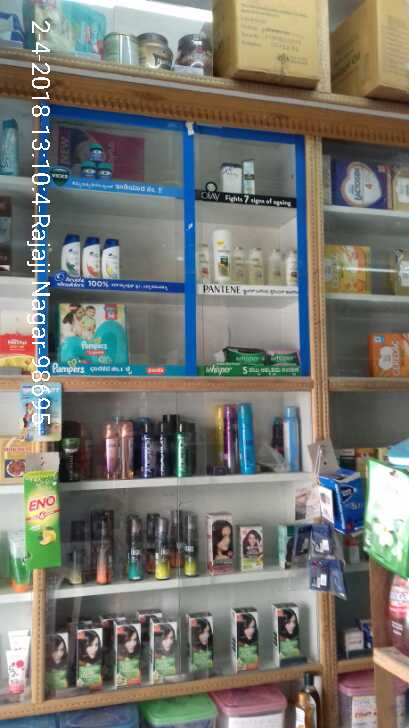vicks: (82, 144, 113, 181)
